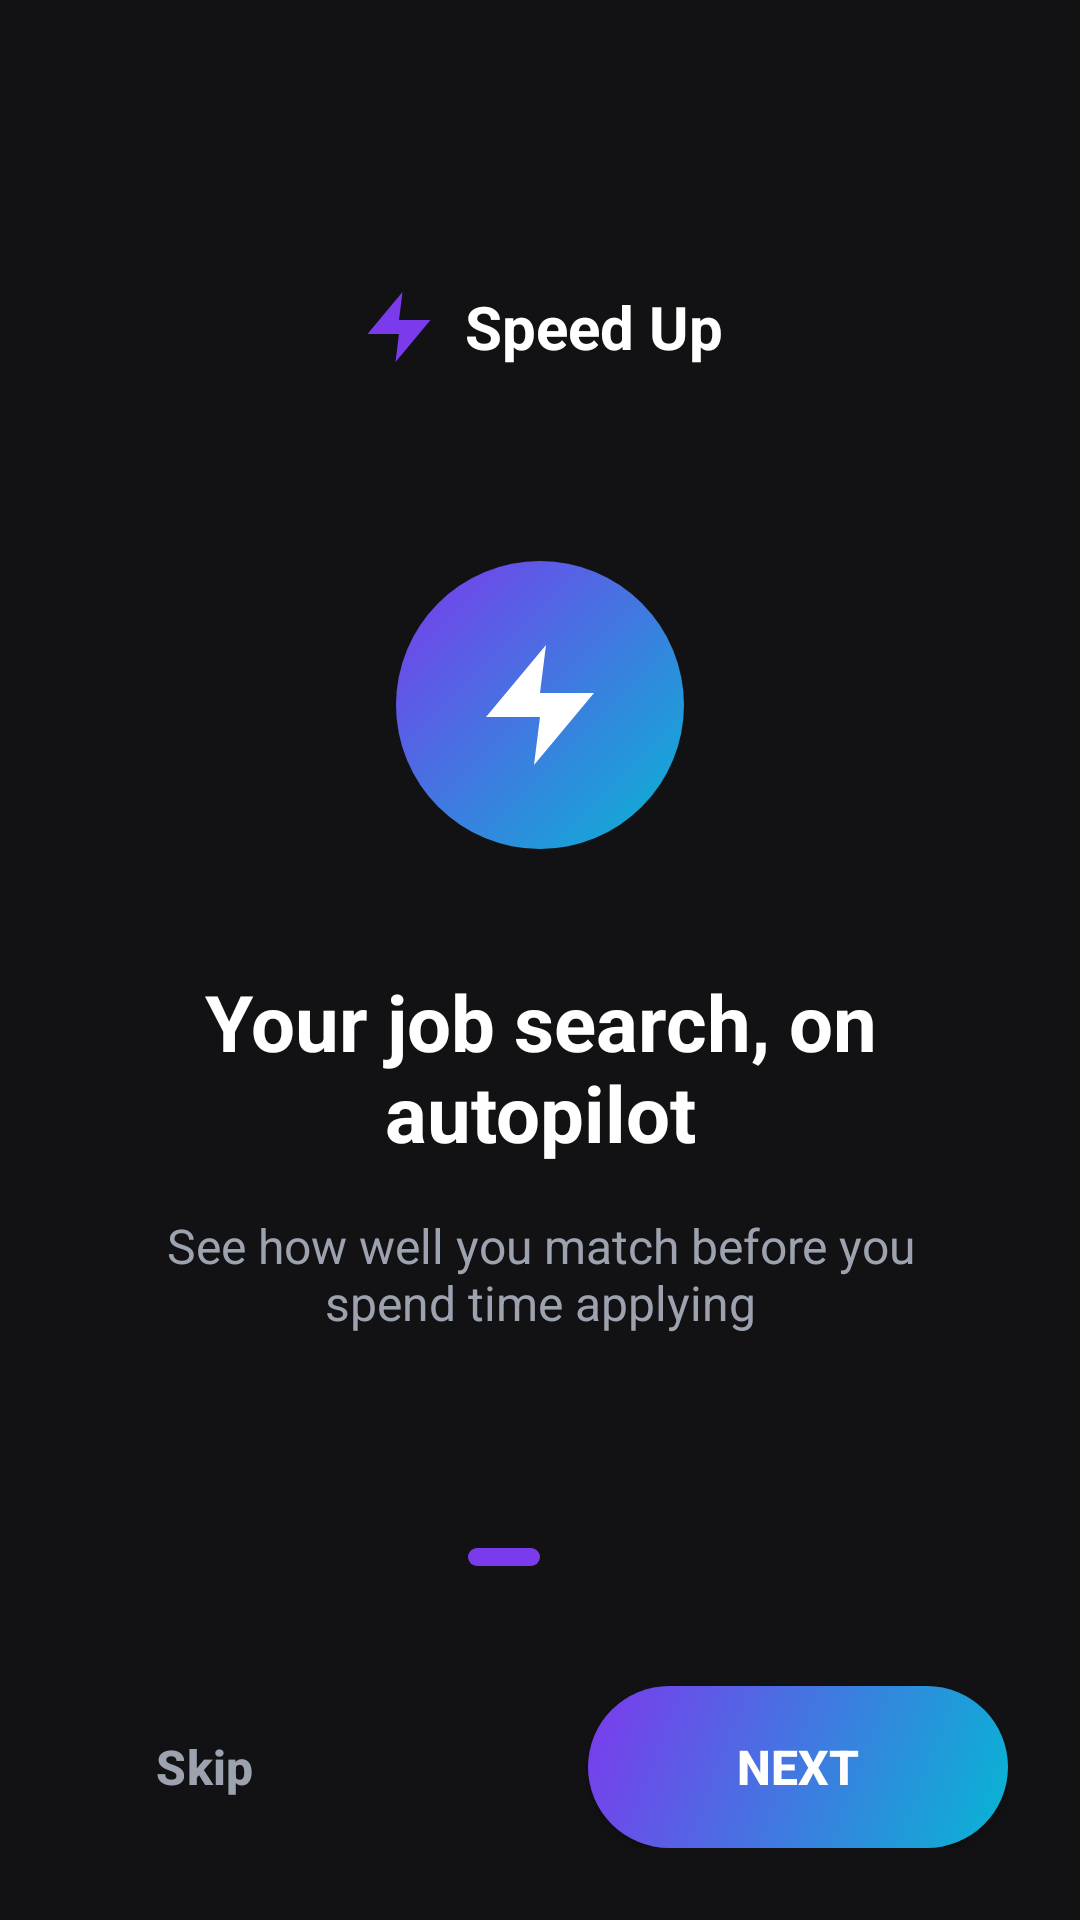

Named icons in this screenshot (1080px x 1920px) and their centers, (x,y):
zap: (399,327), (540,705)
